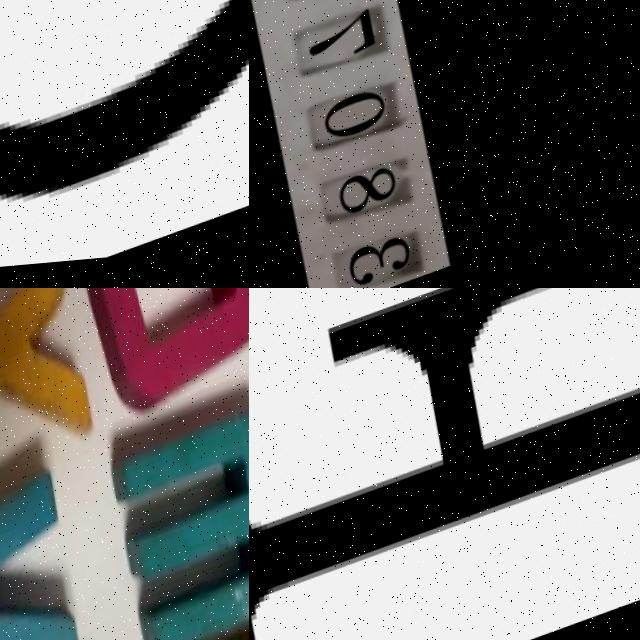0: (318, 85, 415, 161)
3: (344, 231, 445, 288)
7: (297, 6, 404, 90)
8: (334, 162, 430, 236)
E: (249, 288, 640, 640)
M: (98, 396, 249, 640)
O: (54, 288, 249, 426)
V: (0, 473, 107, 640)
X: (0, 288, 119, 487)
